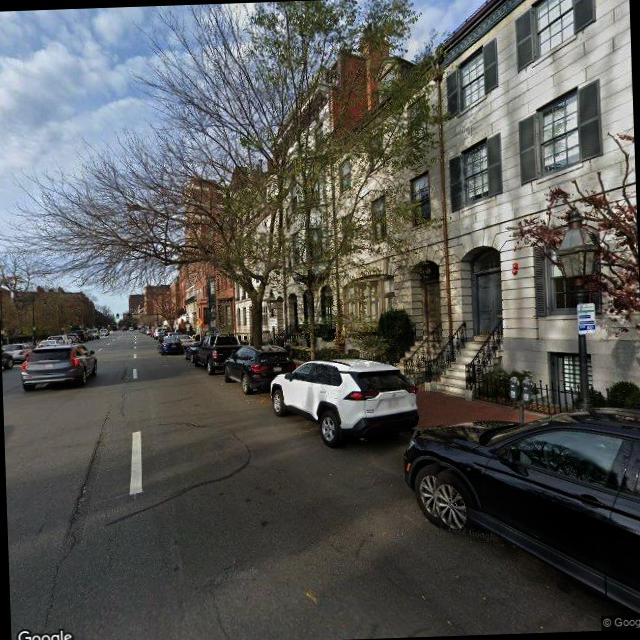pothole: (32, 380, 125, 637)
